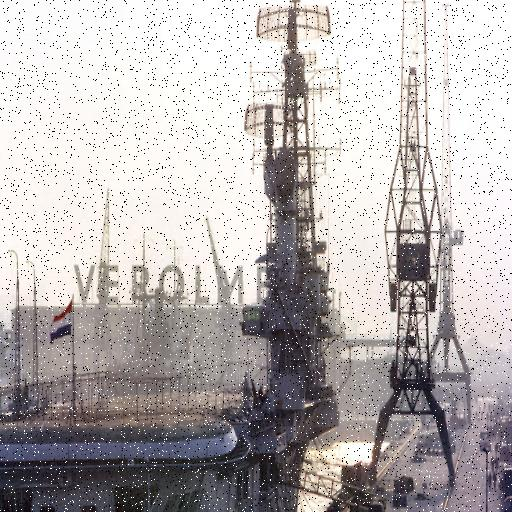Portanaves: (1, 1, 364, 512)
